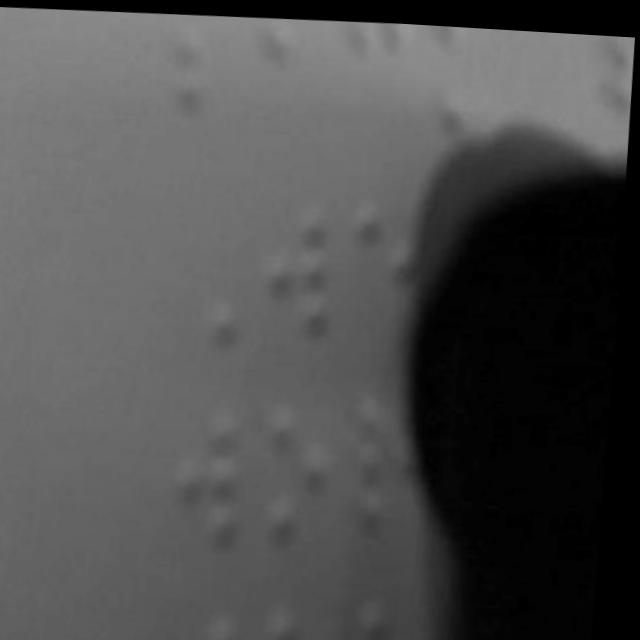braiile: (177, 393, 257, 541), (262, 189, 344, 333), (258, 397, 340, 539)
